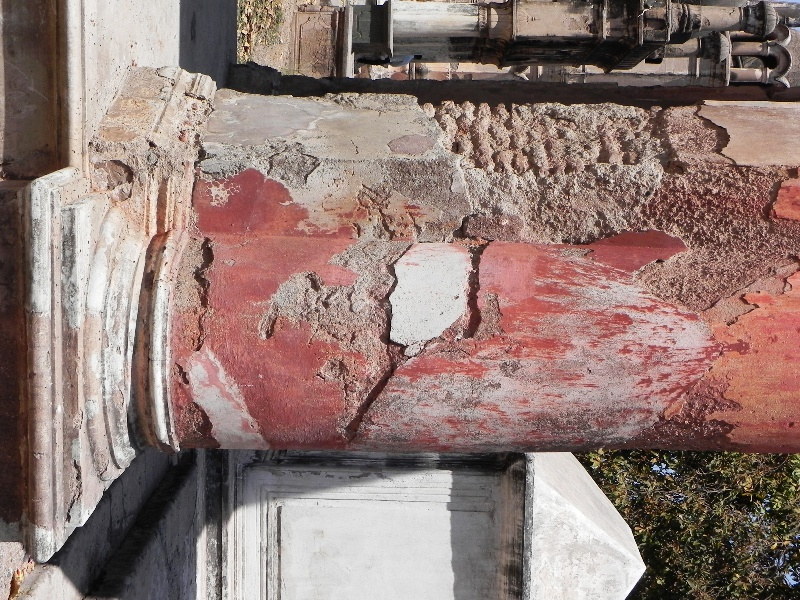Exposed Bricks: (428, 99, 680, 169)
Spalling: (475, 173, 800, 279), (261, 229, 403, 453), (177, 227, 224, 456)
